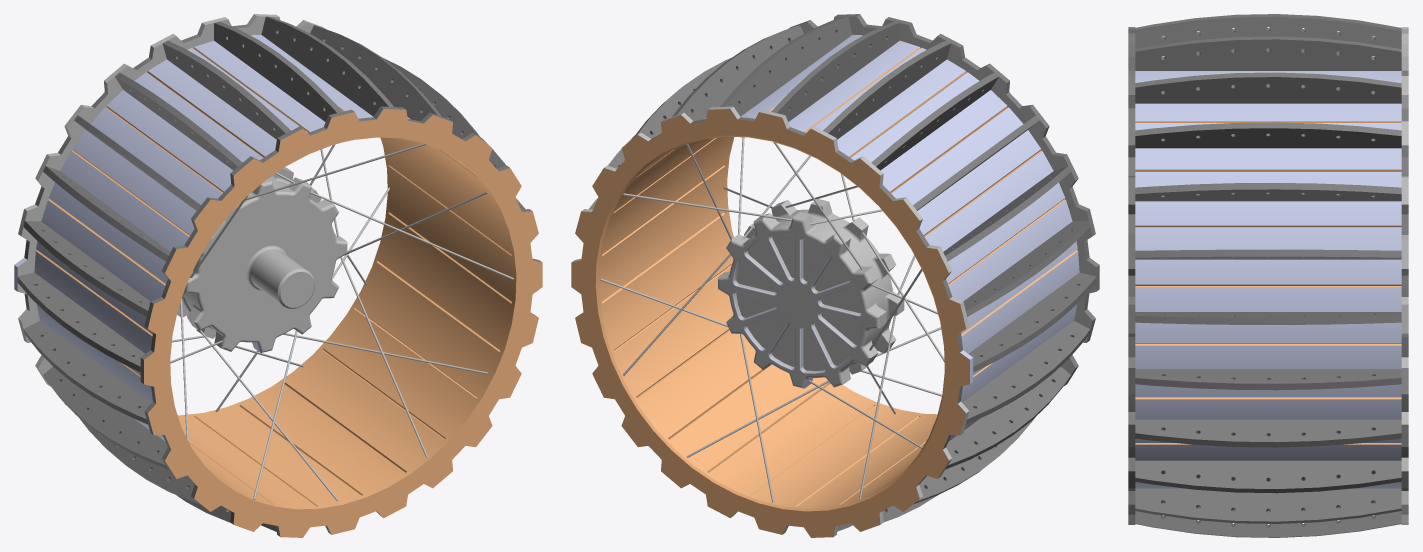
Rendered from wheel_left.dae.
The picture shows the model from 3 angles, left to right: view 1: azimuth 30°, elevation 25°; view 2: azimuth 150°, elevation 25°; view 3: azimuth 270°, elevation 25°; orthographic projection. The views are drawn at different scales.
Visible parts, largest first — view 1: _3DGeom-1203, _3DGeom-1201, _3DGeom-1200, _3DGeom-1204; view 2: _3DGeom-1203, _3DGeom-1201, _3DGeom-1204, _3DGeom-1200, _3DGeom-1202; view 3: _3DGeom-1201, _3DGeom-1200, _3DGeom-1203, _3DGeom-1204.
Part boxes in pixels (x1,y1,x2,y2): _3DGeom-1203: [36, 47, 542, 537]; _3DGeom-1201: [17, 16, 541, 536]; _3DGeom-1200: [34, 35, 410, 441]; _3DGeom-1204: [17, 14, 513, 500]; _3DGeom-1203: [571, 47, 1077, 537]; _3DGeom-1201: [589, 14, 1099, 531]; _3DGeom-1204: [572, 16, 1096, 536]; _3DGeom-1200: [703, 35, 1079, 441]; _3DGeom-1202: [732, 233, 973, 387]; _3DGeom-1201: [1128, 14, 1408, 537]; _3DGeom-1200: [1135, 52, 1401, 488]; _3DGeom-1203: [1135, 121, 1401, 444]; _3DGeom-1204: [1401, 27, 1408, 524].
Bounding box in the file's own units: 0.4499 × 0.24 × 0.4499.
